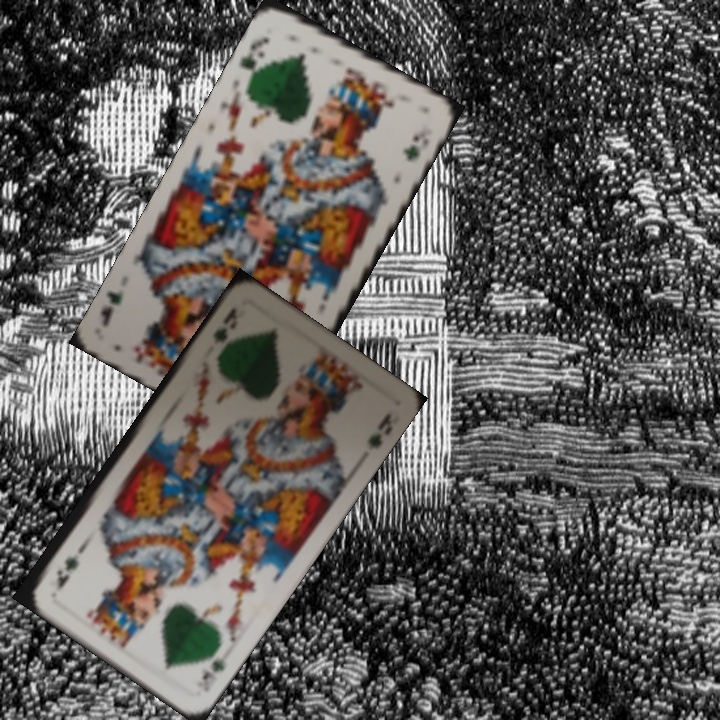GK: (236, 33, 273, 82), (192, 654, 228, 695), (209, 303, 241, 348)
